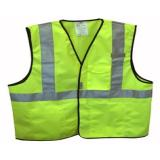Vest: (5, 18, 154, 142)
